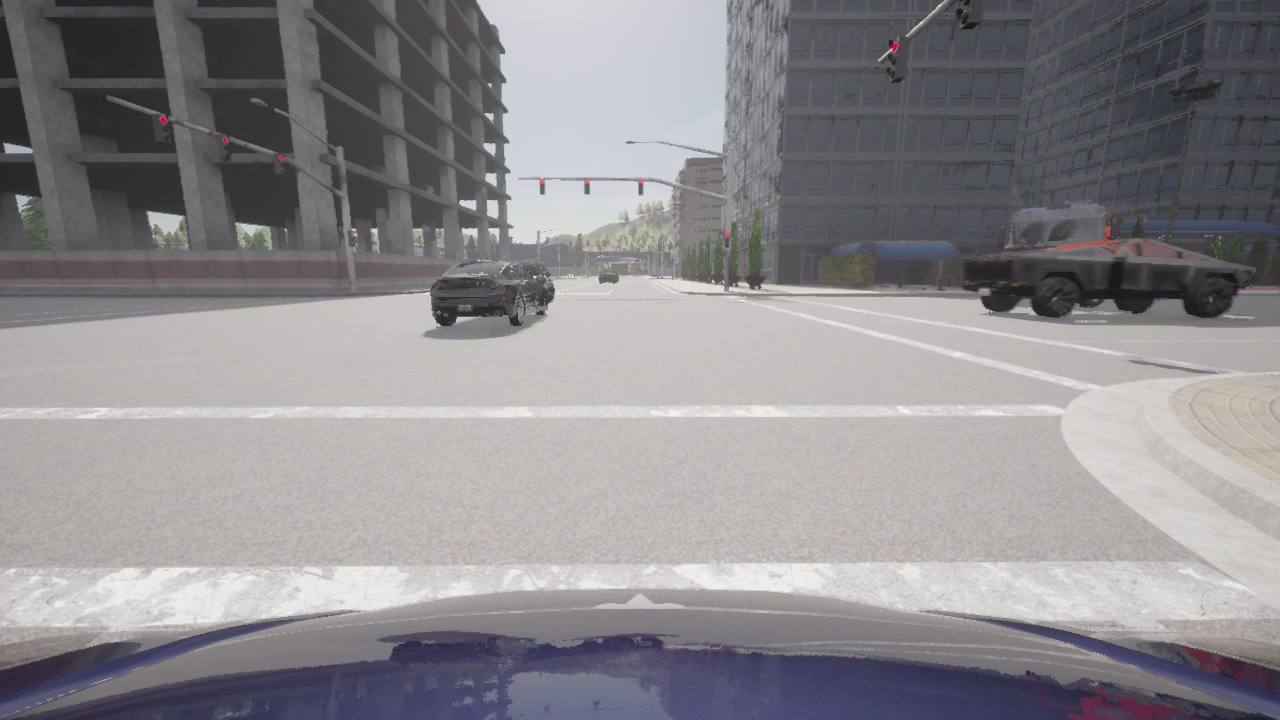cyclist: (0, 588, 1279, 719), (961, 239, 1242, 319), (995, 199, 1120, 306), (431, 260, 546, 326), (522, 264, 554, 301), (1232, 264, 1258, 288), (514, 260, 547, 272), (600, 273, 615, 282), (607, 272, 618, 281), (551, 271, 558, 276)
